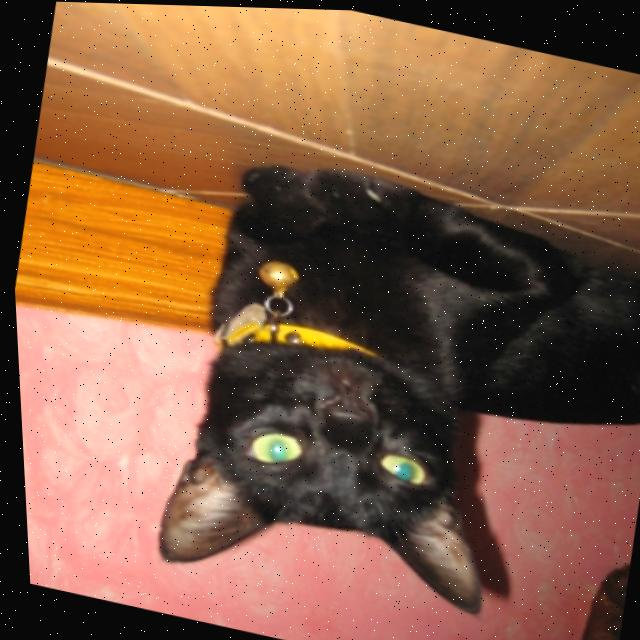Bombay: (129, 137, 640, 640)
